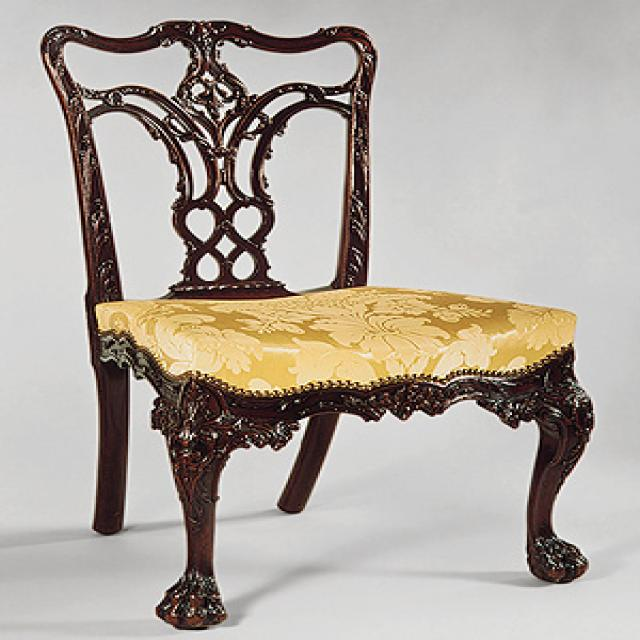chair: (36, 19, 595, 628)
